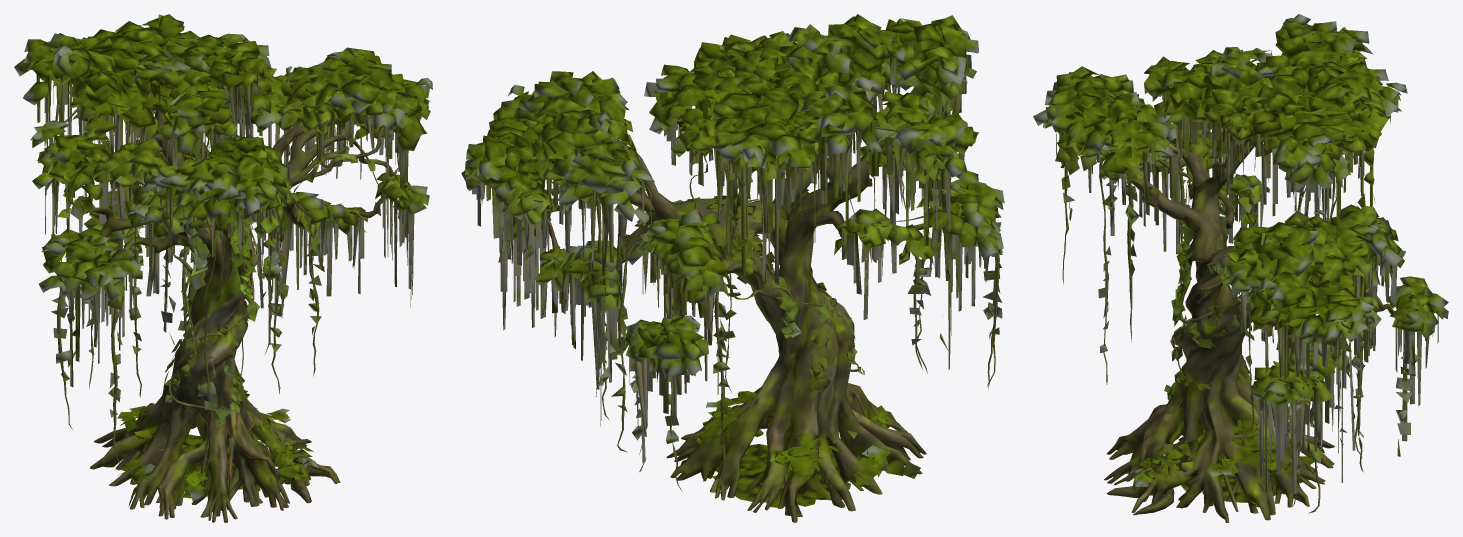
Rendered from swamp_1.glb.
3 views of the same model, side by side, from view 1: azimuth 30°, elevation 25°; view 2: azimuth 150°, elevation 25°; view 3: azimuth 270°, elevation 25° (orthographic). The views are drawn at different scales.
Visible parts, largest first — view 1: geometry_0; view 2: geometry_0; view 3: geometry_0.
Boxes of the visible parts, x1,y1,x2,y2 form: geometry_0: [14, 14, 432, 522]; geometry_0: [461, 14, 1004, 522]; geometry_0: [1033, 14, 1448, 522].
Bounding box in the file's own units: 0.9575 × 0.8809 × 0.8052.
1 material, 1 textured.
